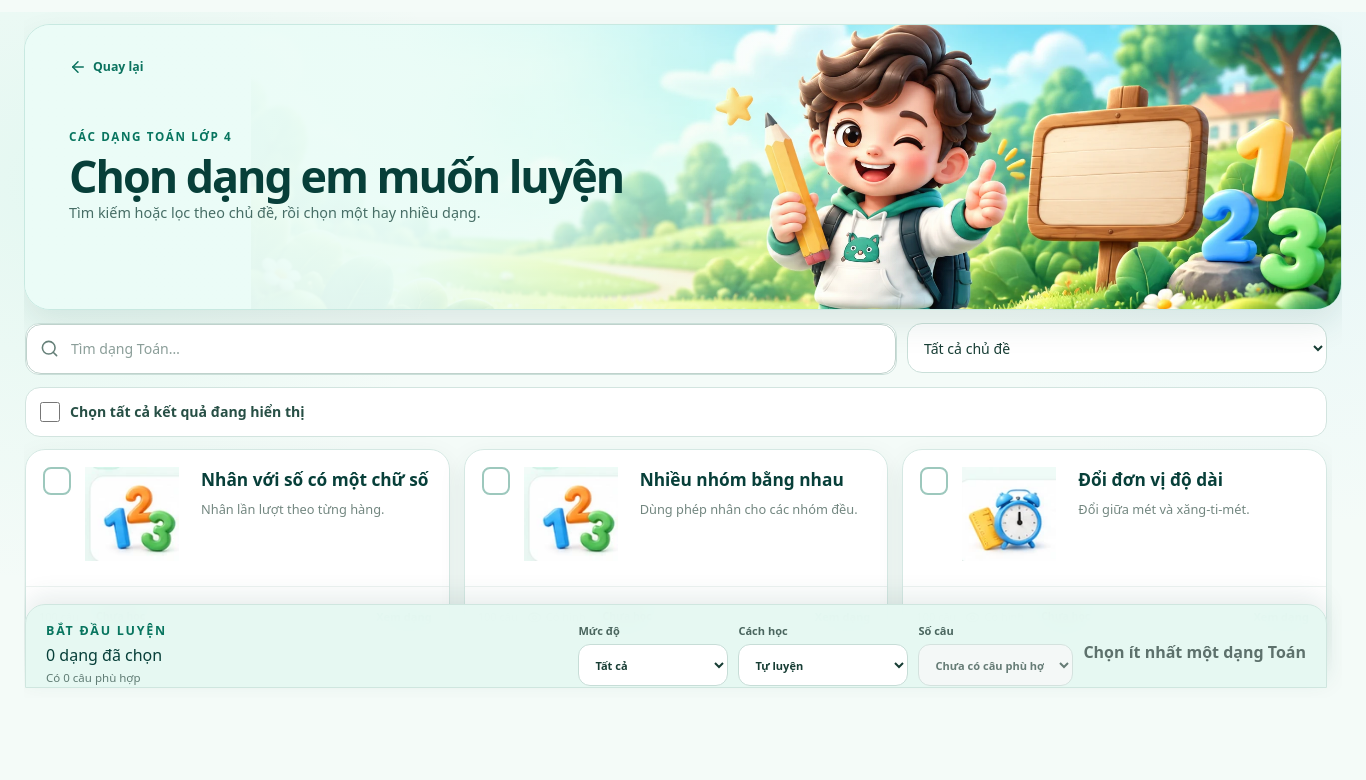
Test case: LearnCatalogPage › filters the type catalog and creates a multi-type practice URL
Click the button "Nhân với số có một chữ số Nhân lần lượt theo từng hàng." at (237, 518), box [26, 450, 449, 586]
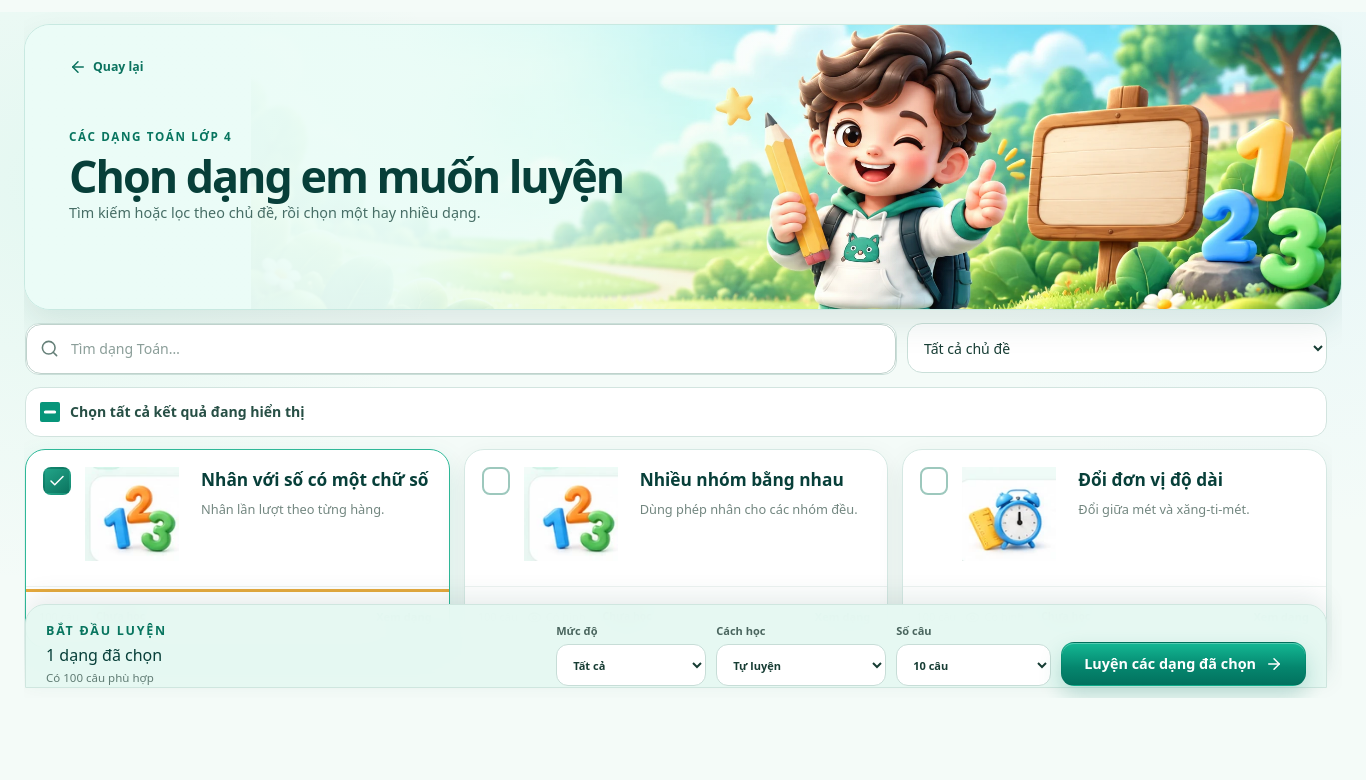
Click the button "Nhiều nhóm bằng nhau Dùng phép nhân cho các nhóm đều." at (676, 518), box [465, 450, 887, 586]
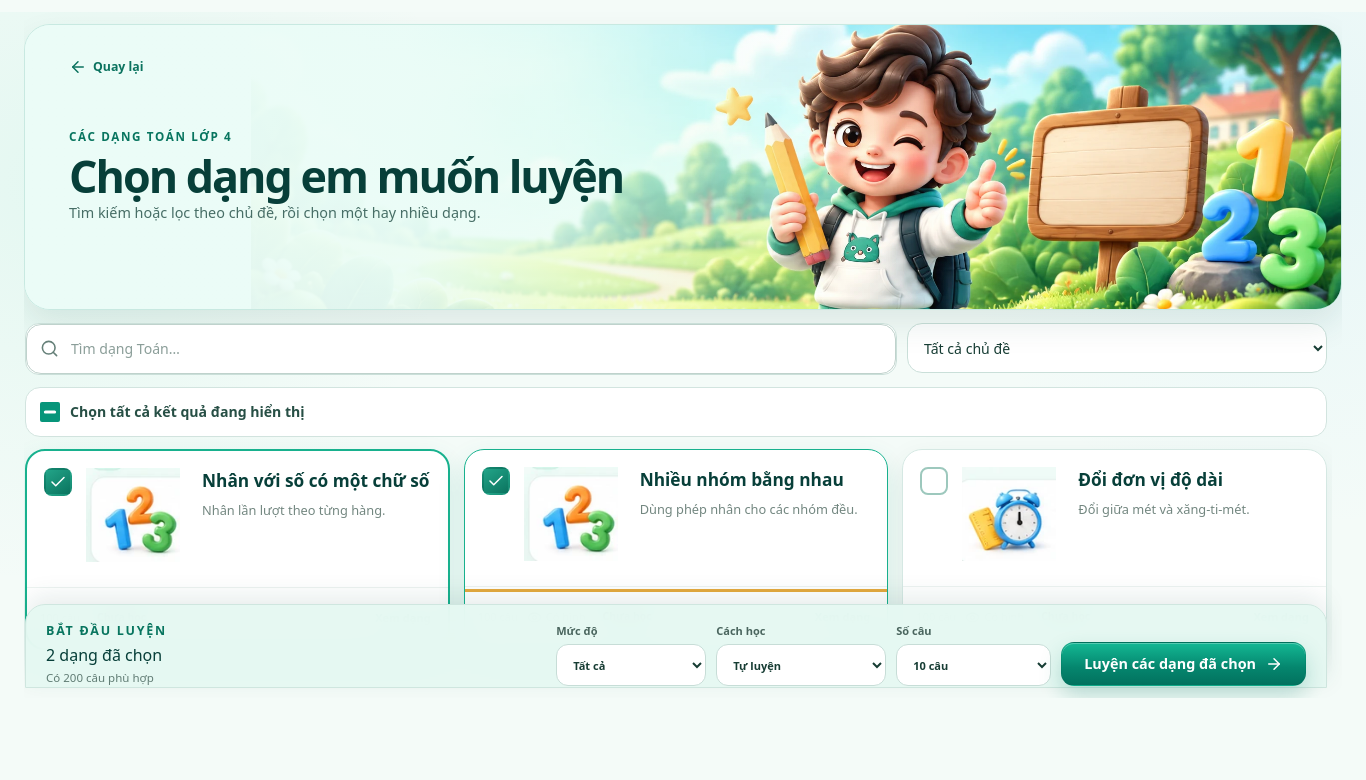
Expected: the heading "2 dạng đã chọn" is shown, [46, 644, 162, 666]
Select "Đơn vị đo" in the dropdown named "Lọc theo chủ đề" at (1117, 348), box [907, 323, 1327, 373]
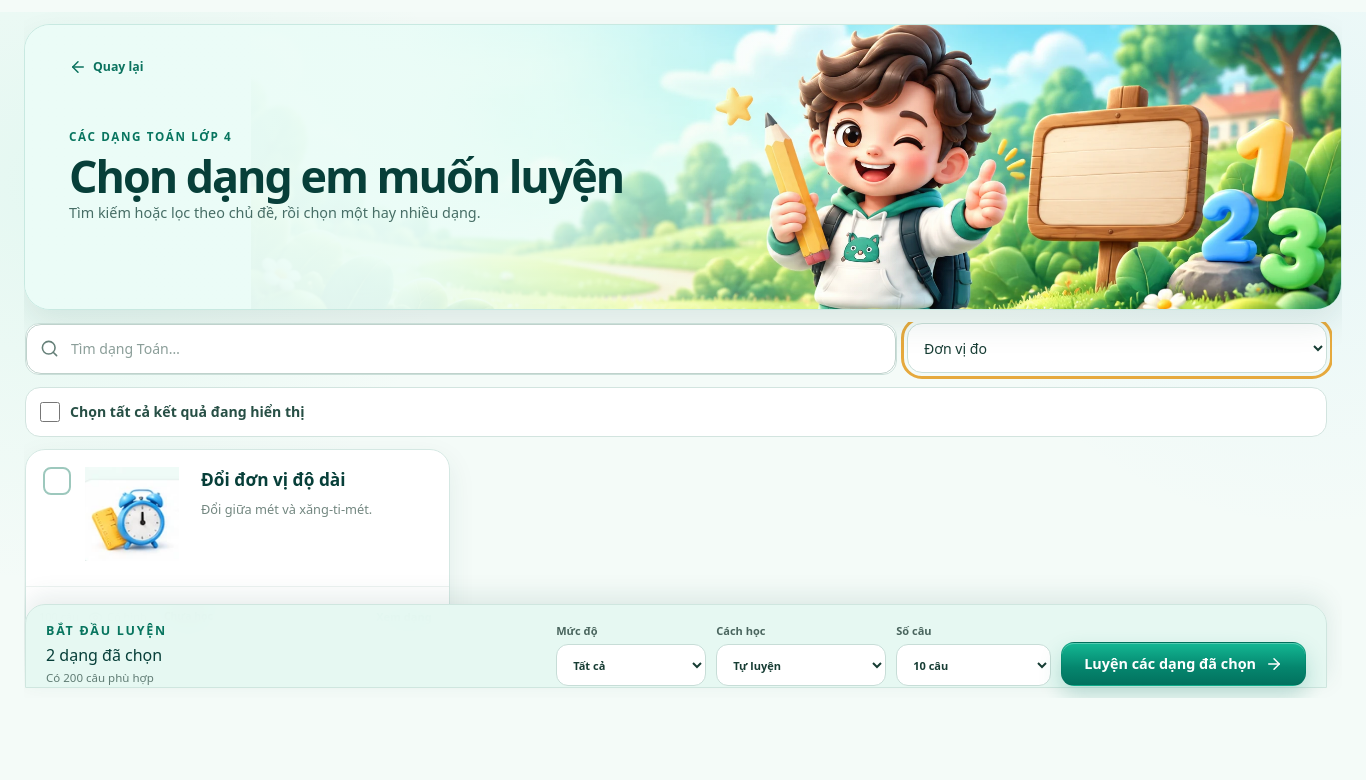
Expected: the text "Đổi đơn vị độ dài" is shown, [201, 468, 346, 491]
Expected: the button "Nhiều nhóm bằng nhau" is gone
Select "Tất cả chủ đề" in the dropdown named "Lọc theo chủ đề" at (1117, 348), box [907, 323, 1327, 373]
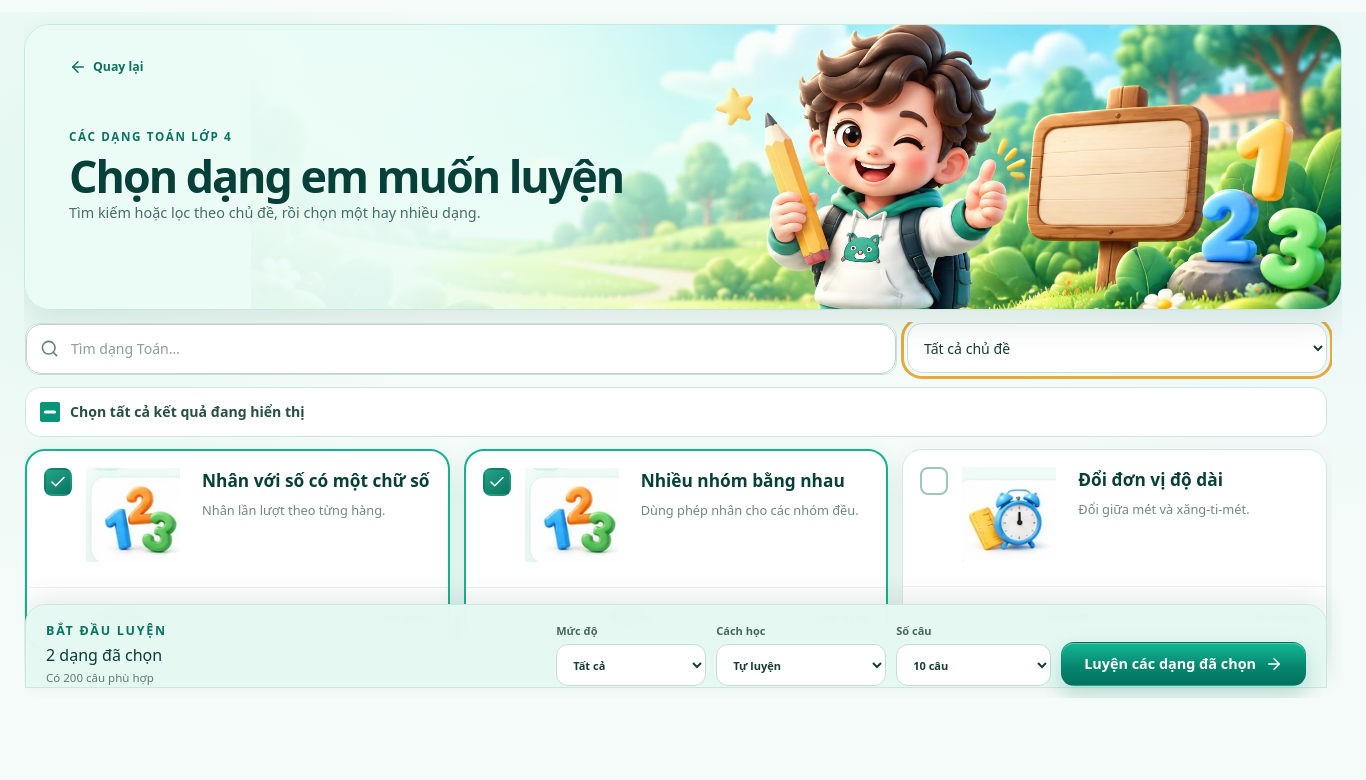
Type "đổi đơn vị" into the field labelled "Tìm dạng Toán" at (461, 349), box [26, 324, 896, 374]
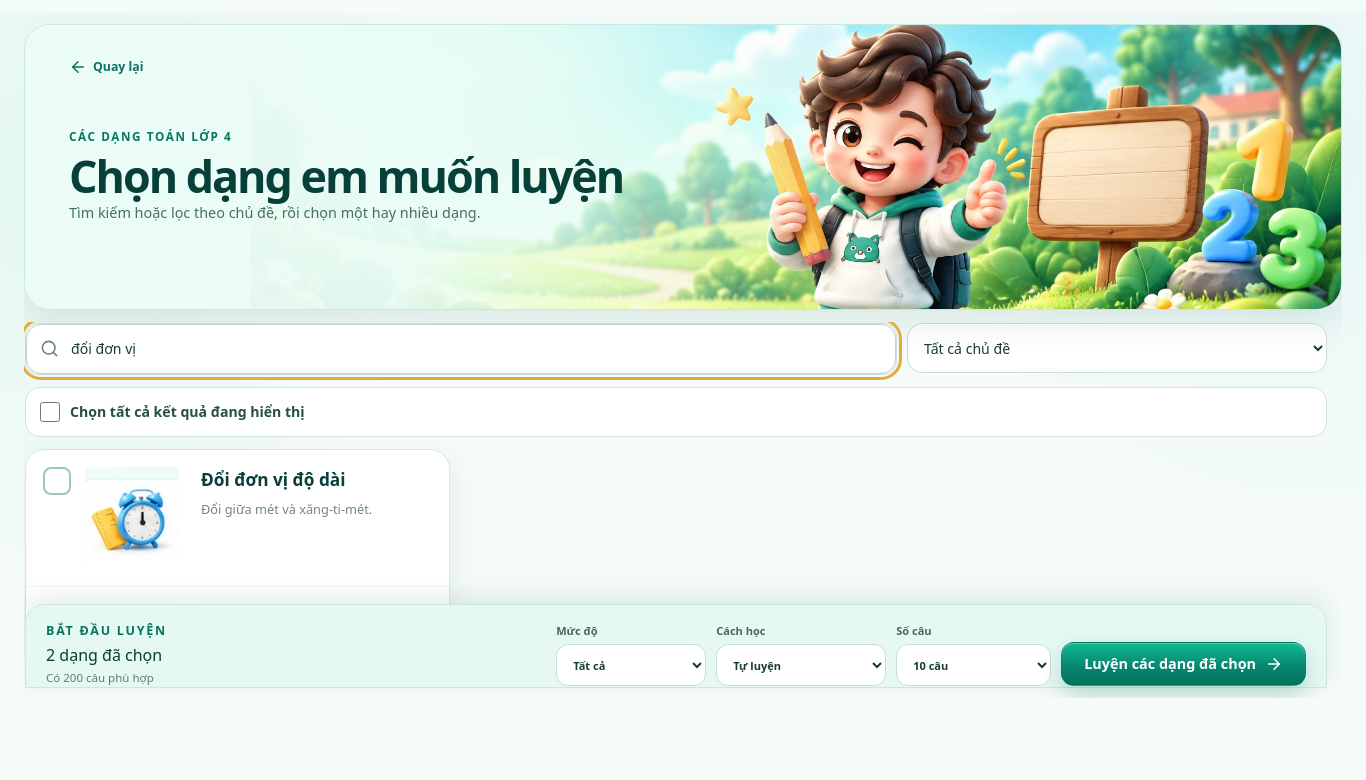
Expected: the text "Đổi đơn vị độ dài" is shown, [201, 468, 346, 491]
Expected: the button "Nhân với số có một chữ số" is gone
